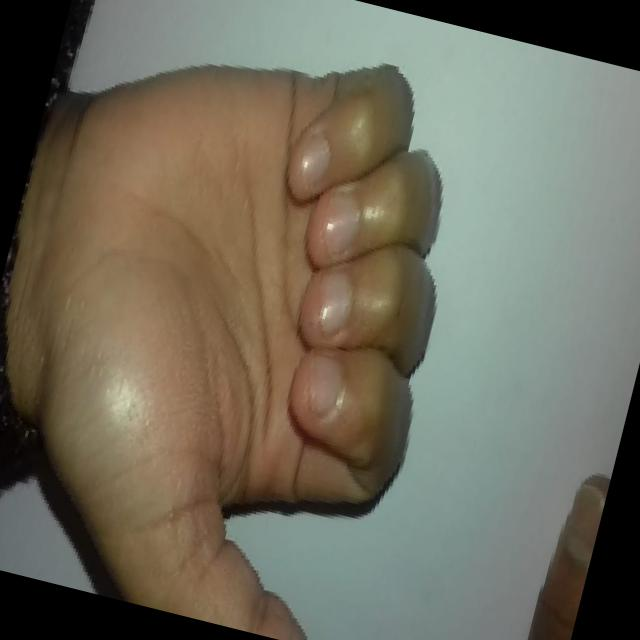Nail: (322, 189, 360, 256), (317, 267, 352, 336), (308, 357, 342, 412), (296, 131, 329, 186)
